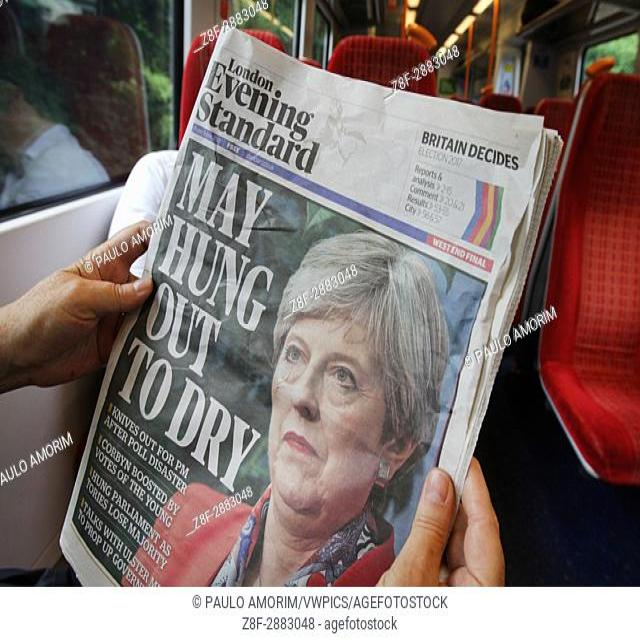newspaper: (64, 33, 553, 593)
